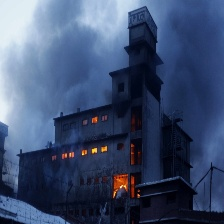fire: (112, 179, 133, 198)
smoke: (3, 3, 224, 119)
